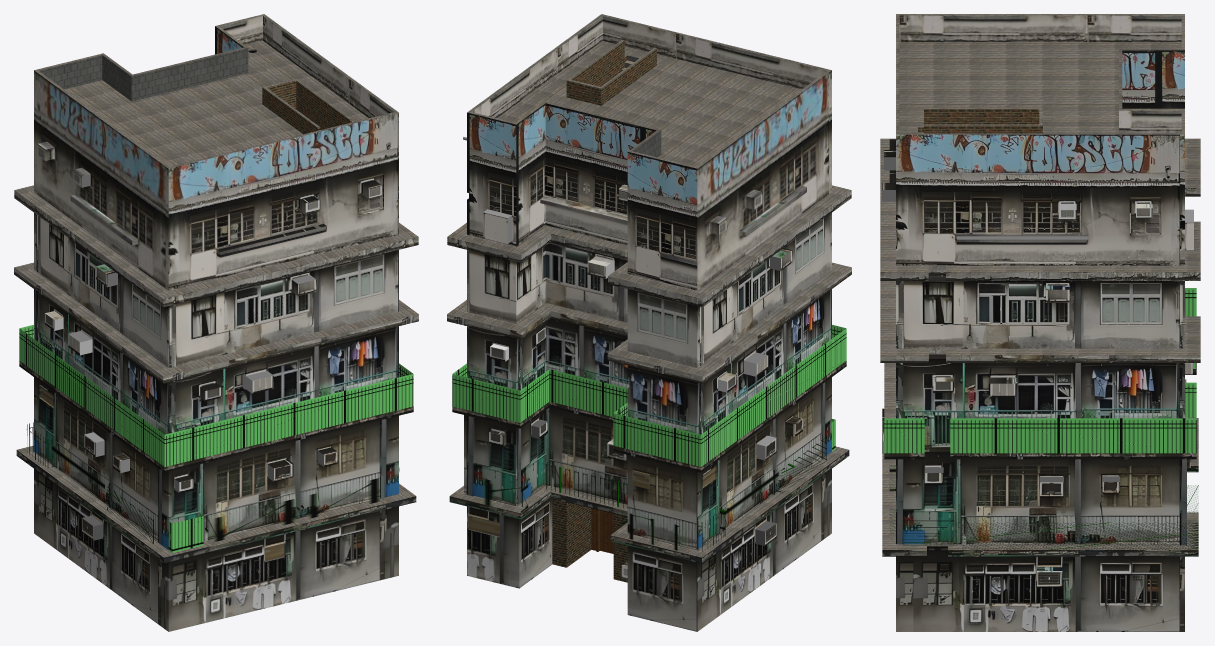
File: abandoned_building_gameready.glb
3 views of the same model, side by side, from view 1: azimuth 30°, elevation 25°; view 2: azimuth 150°, elevation 25°; view 3: azimuth 270°, elevation 25° (orthographic). The views are drawn at different scales.
Visible parts, largest first — view 1: Material3 (×7), Material2 (×3); view 2: Material3 (×8), Material2 (×3); view 3: Material3 (×5), Material2 (×3).
Boxes of the visible parts, x1,y1,x2,y2 form: Material3 (×7): (14, 16, 418, 631); Material2 (×3): (14, 14, 418, 557); Material3 (×8): (447, 16, 851, 631); Material2 (×3): (447, 14, 851, 557); Material3 (×5): (880, 15, 1200, 631); Material2 (×3): (880, 14, 1200, 549).
Size of the model in its own units: 315 by 545 by 318.
Materials: 27 (16 with a texture image).
